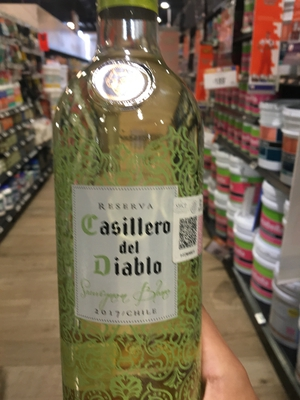casillero del diablo sauvignon blanc: (44, 29, 214, 400)
